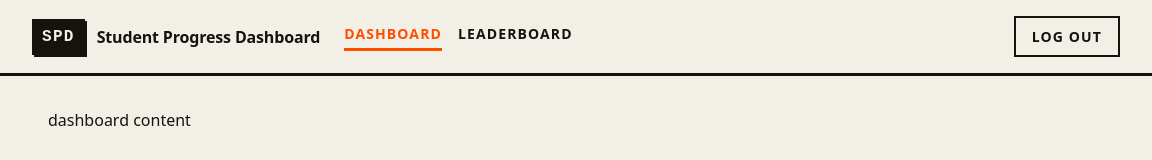
it: AppShell › moves focus to the main landmark on navigation
Click the link "Leaderboard": (515, 36) top-left (458, 22), bottom-right (573, 50)
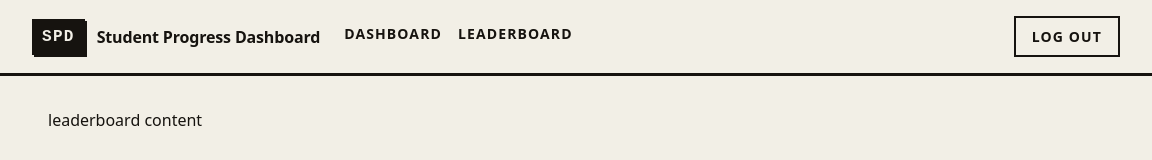
Expected: the text "leaderboard content" is shown, top-left (48, 109), bottom-right (202, 131)
